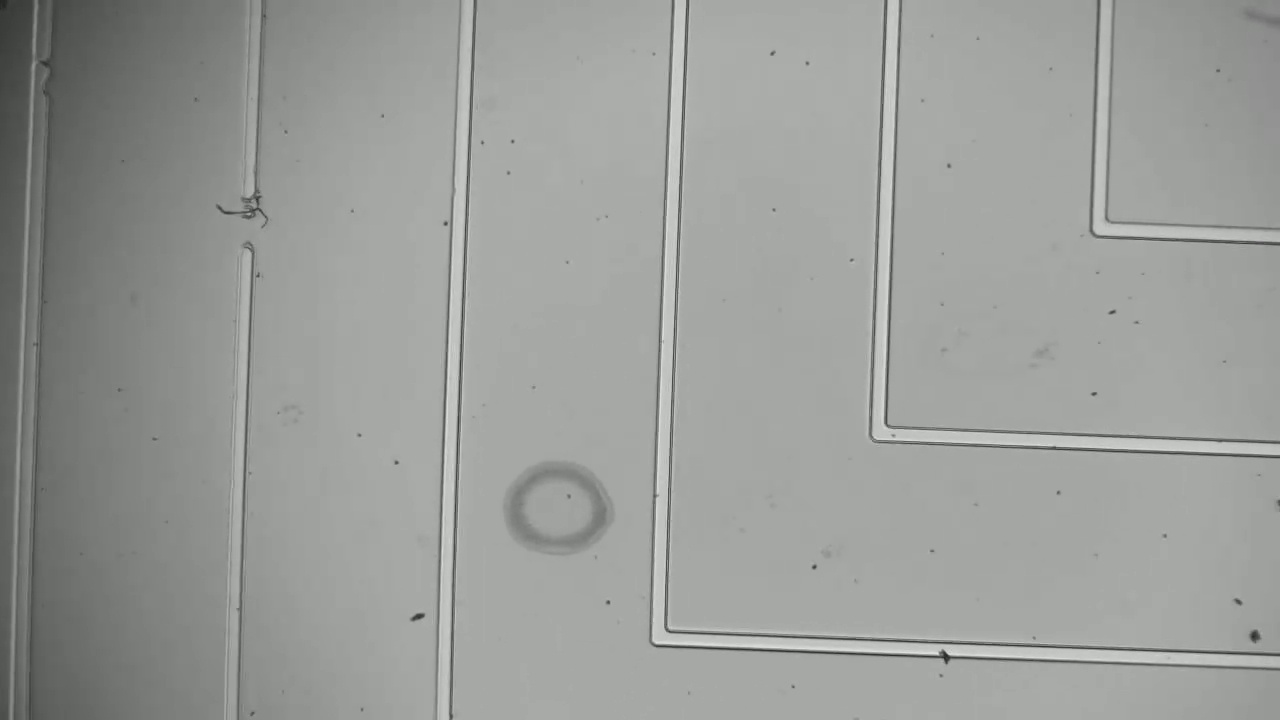edge_bite: (26, 71, 55, 105), (26, 46, 59, 74)
open: (231, 180, 266, 267)
stains_enbedded: (933, 632, 957, 671)
